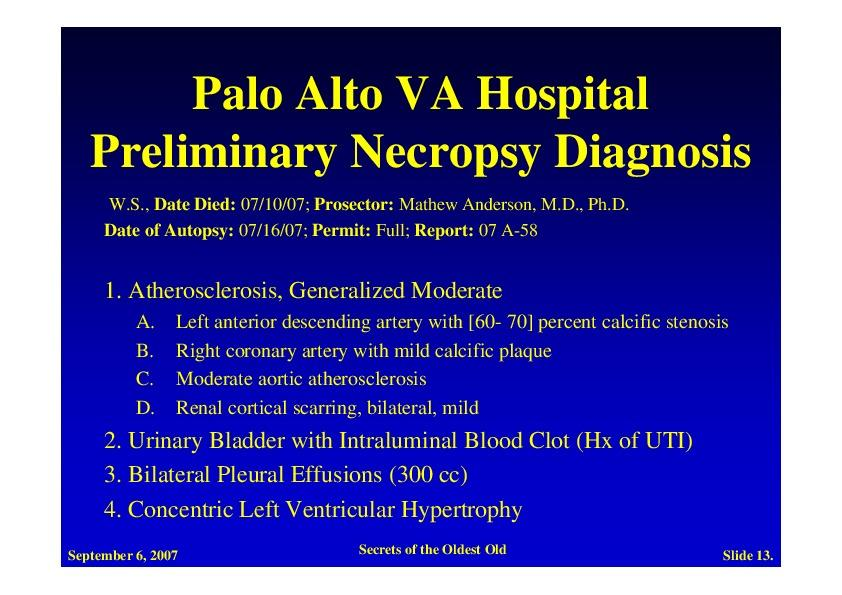paragraph: (88, 184, 751, 533)
title: (74, 52, 760, 178)
